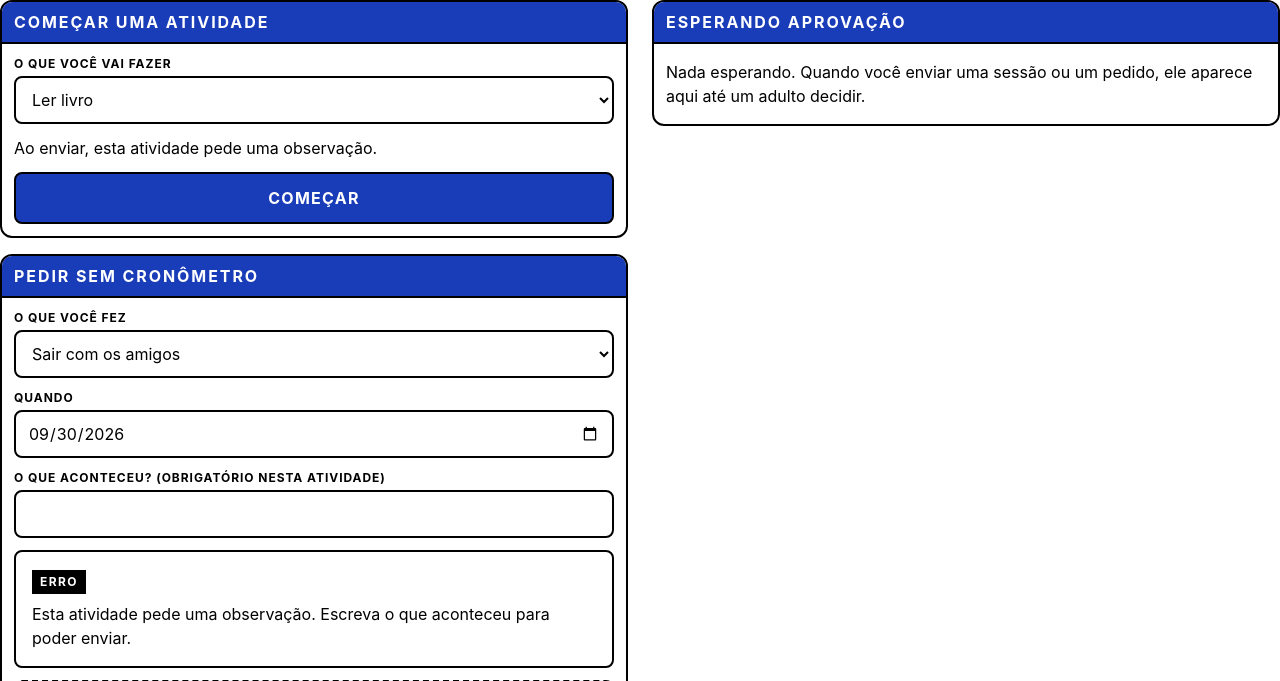
Test: the request without a stopwatch (#44) › lets an activity that does not need one go without
Select "Igreja, culto" in the dropdown labelled "O que você fez" at [314, 354], box [14,330,614,378]
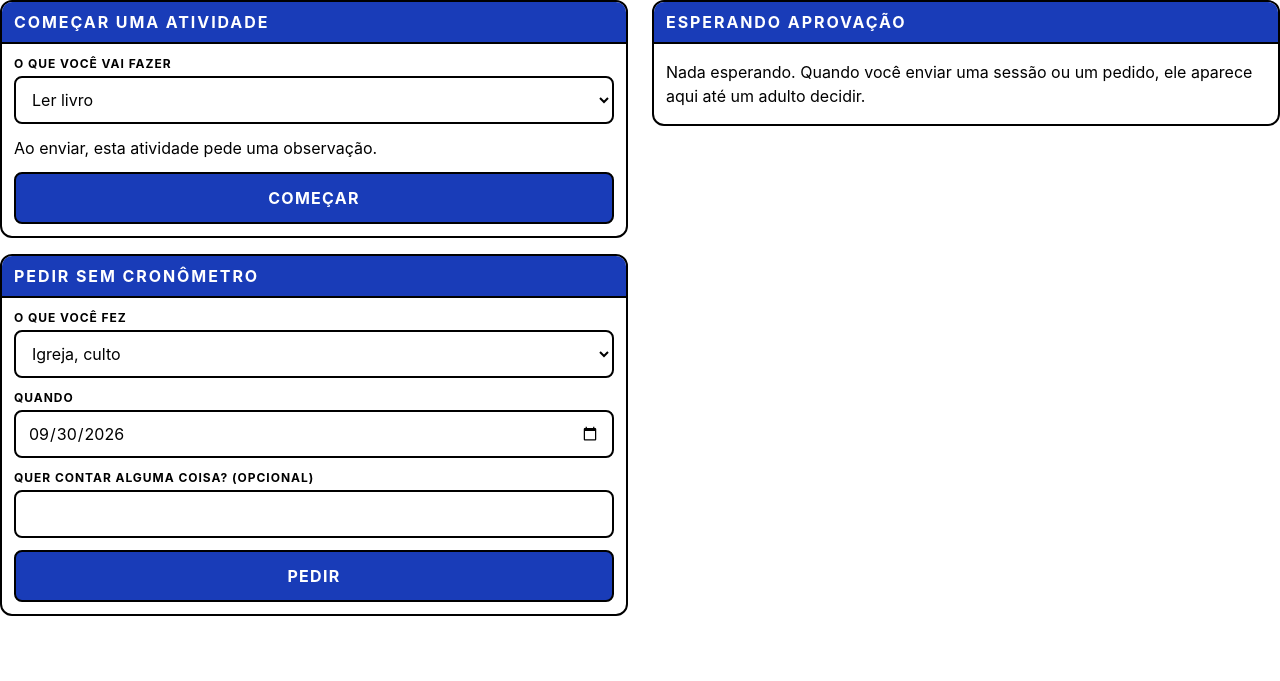
Expected: the text "Quer contar alguma coisa? (opcional)" is shown, [14,470,314,485]
Expected: the text "O que aconteceu? (obrigatório nesta atividade)" is gone
Expected: the text "Esta atividade pede uma observação. Escreva o que aconteceu para poder enviar." is gone
